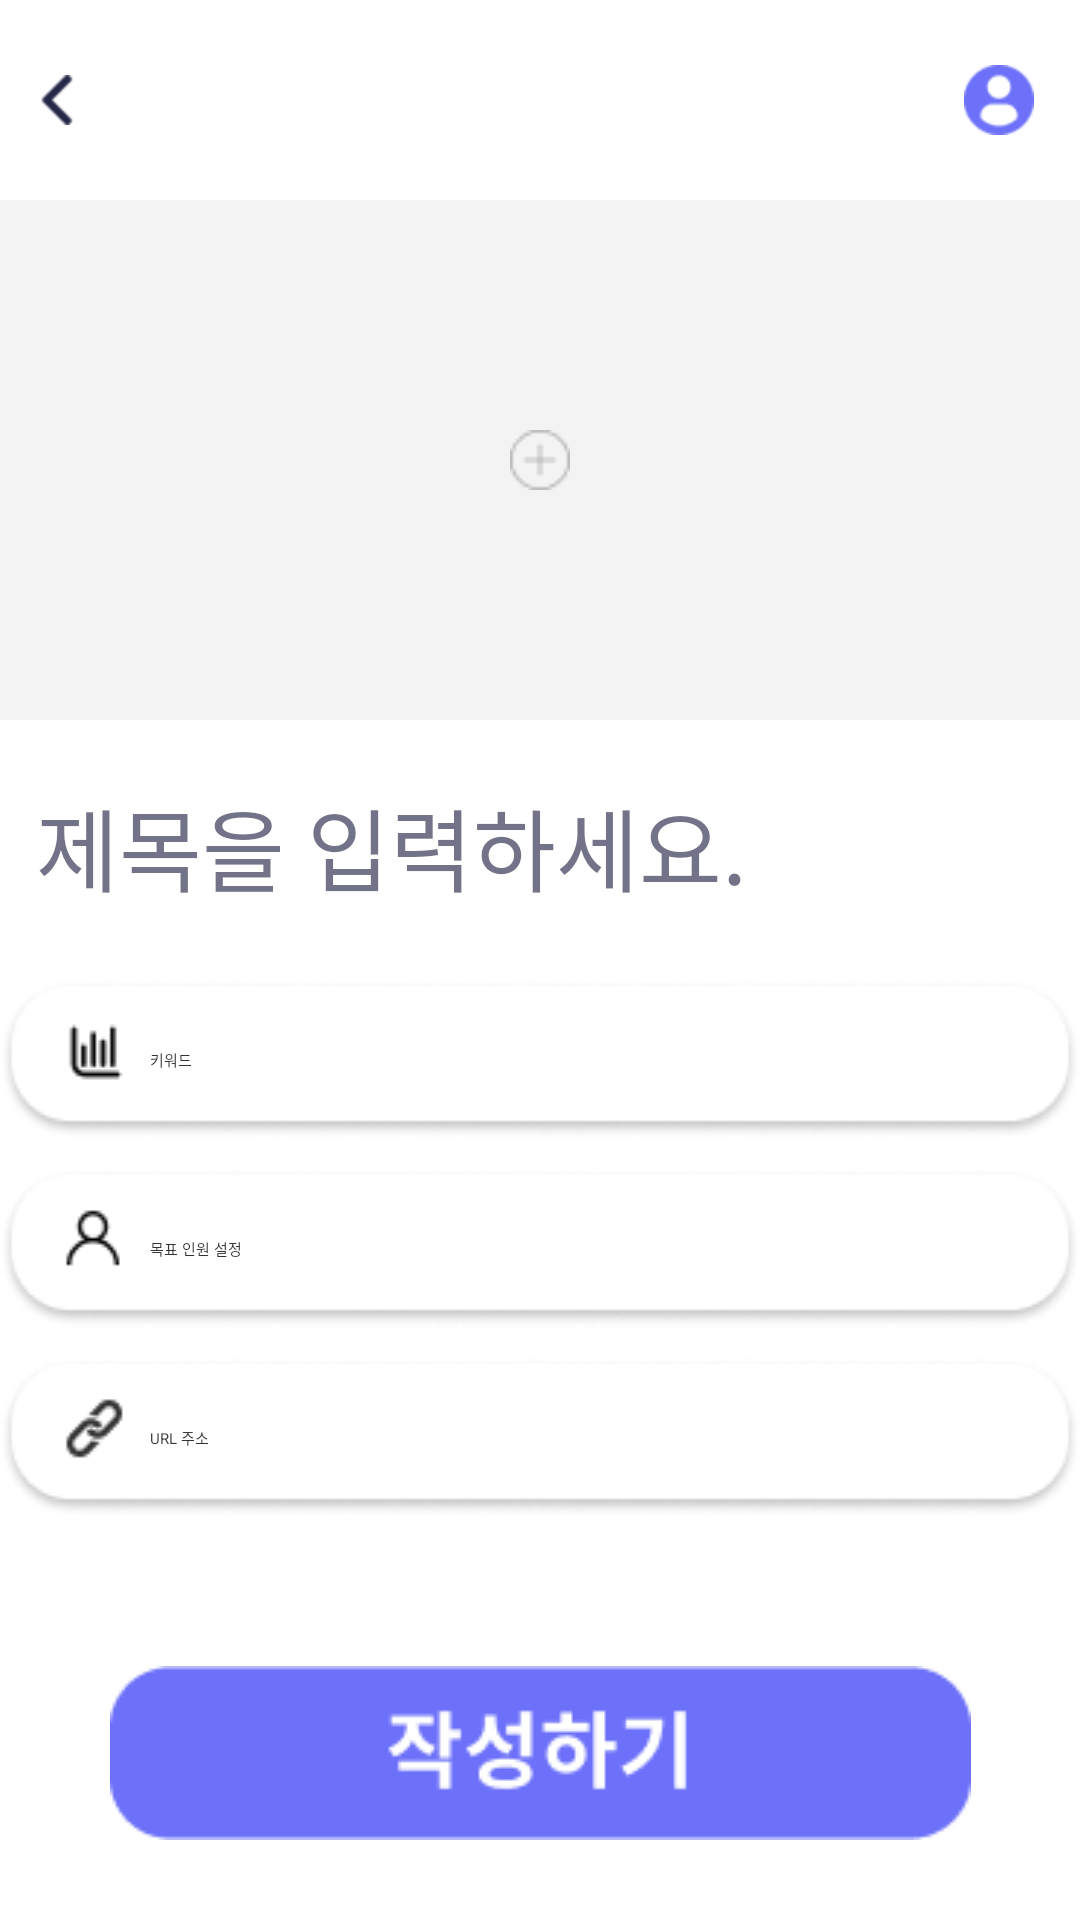

Icons on this 1080x1920 Android screen, each with its box as (x1, y1, x2, y2):
backbutton: (41, 75, 73, 125)
profileuser: (964, 65, 1034, 135)
